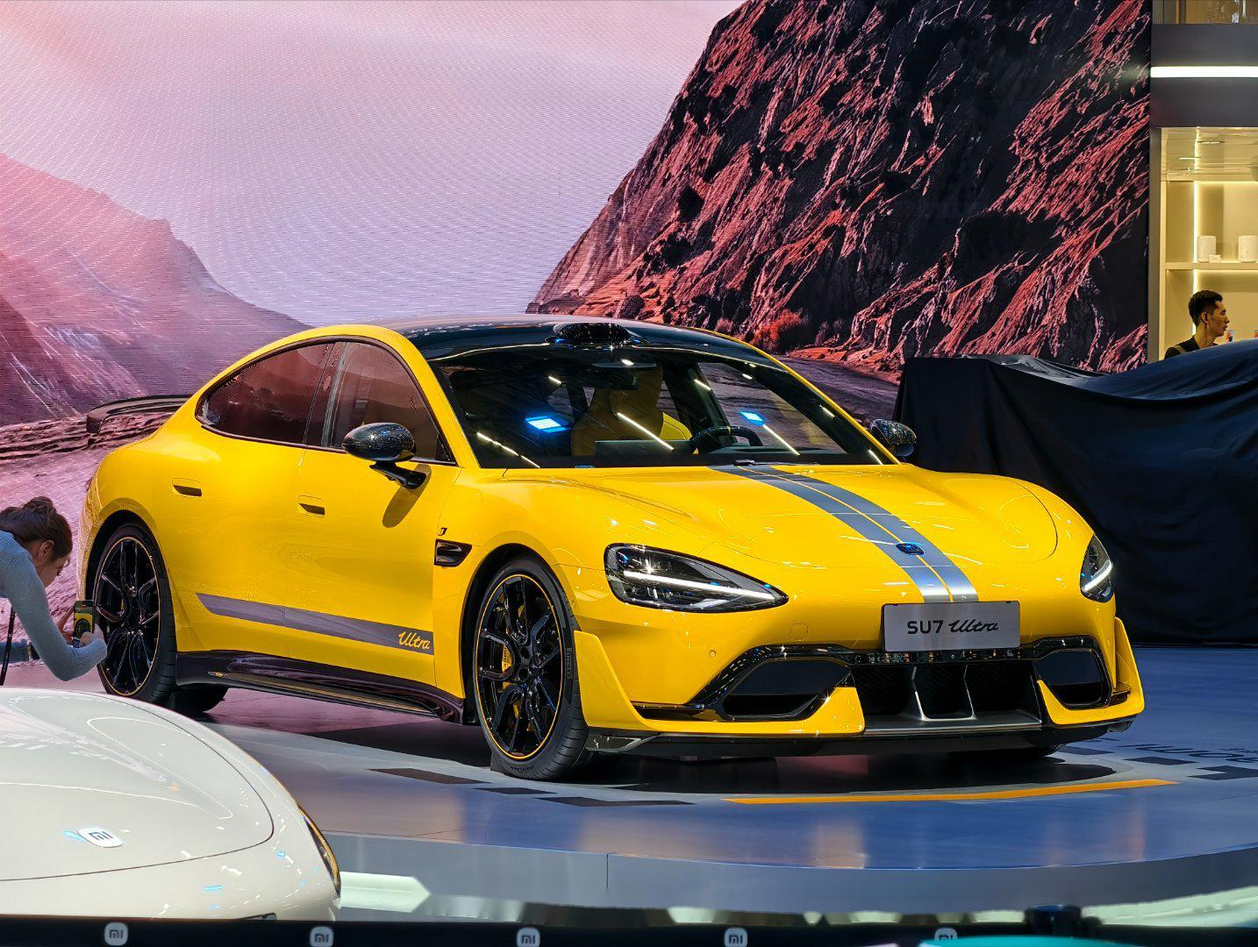su7: (68, 307, 1146, 777)
